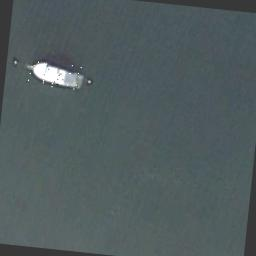boat: (25, 59, 84, 90)
